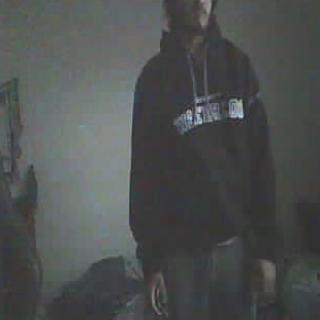Blue Sweatpants: (160, 243, 261, 320)
Waterloo Hoodie: (132, 32, 280, 248)
